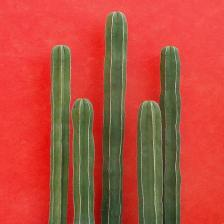green: (101, 12, 127, 224), (49, 45, 71, 224), (160, 46, 181, 224), (138, 101, 163, 224), (72, 99, 95, 224)
